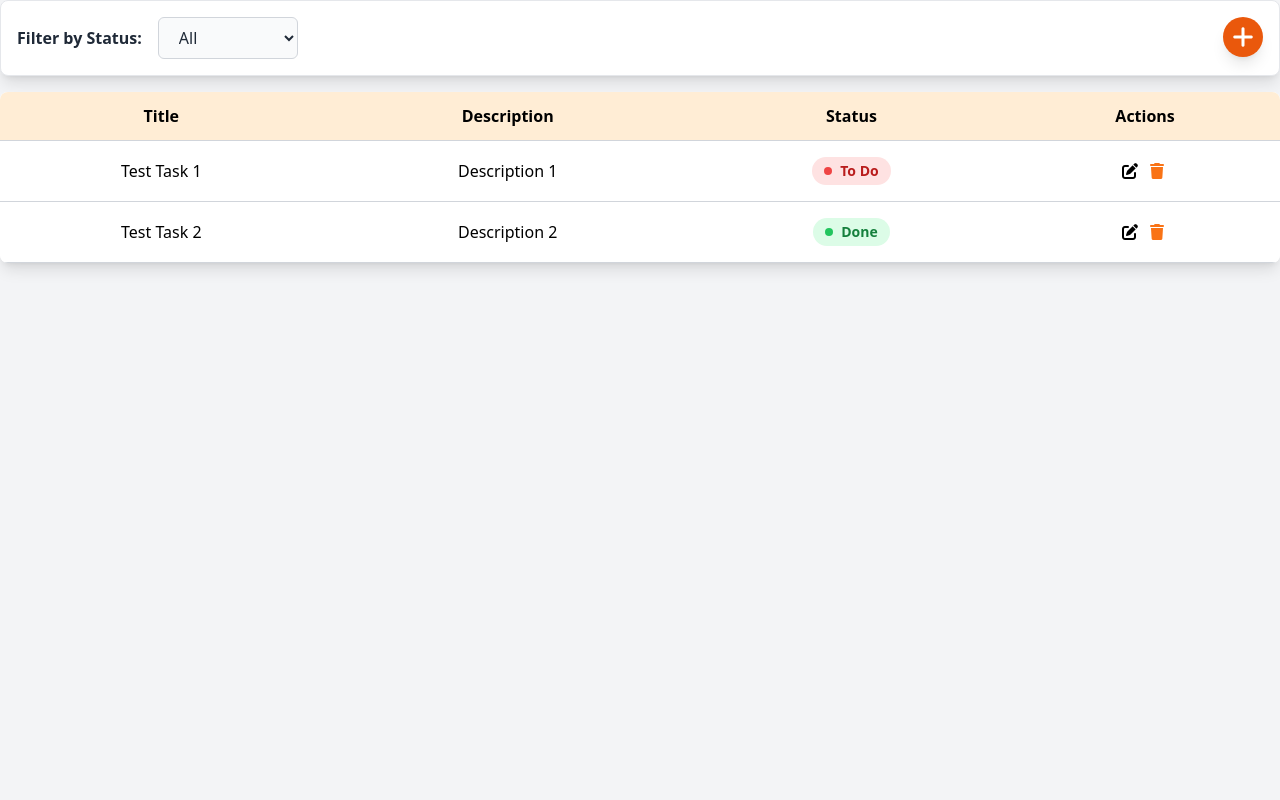
Table.vue › opens edit modal with correct task data
Click the button with class "fa-edit".
click(1132, 171)  # box [1122,163,1142,179]
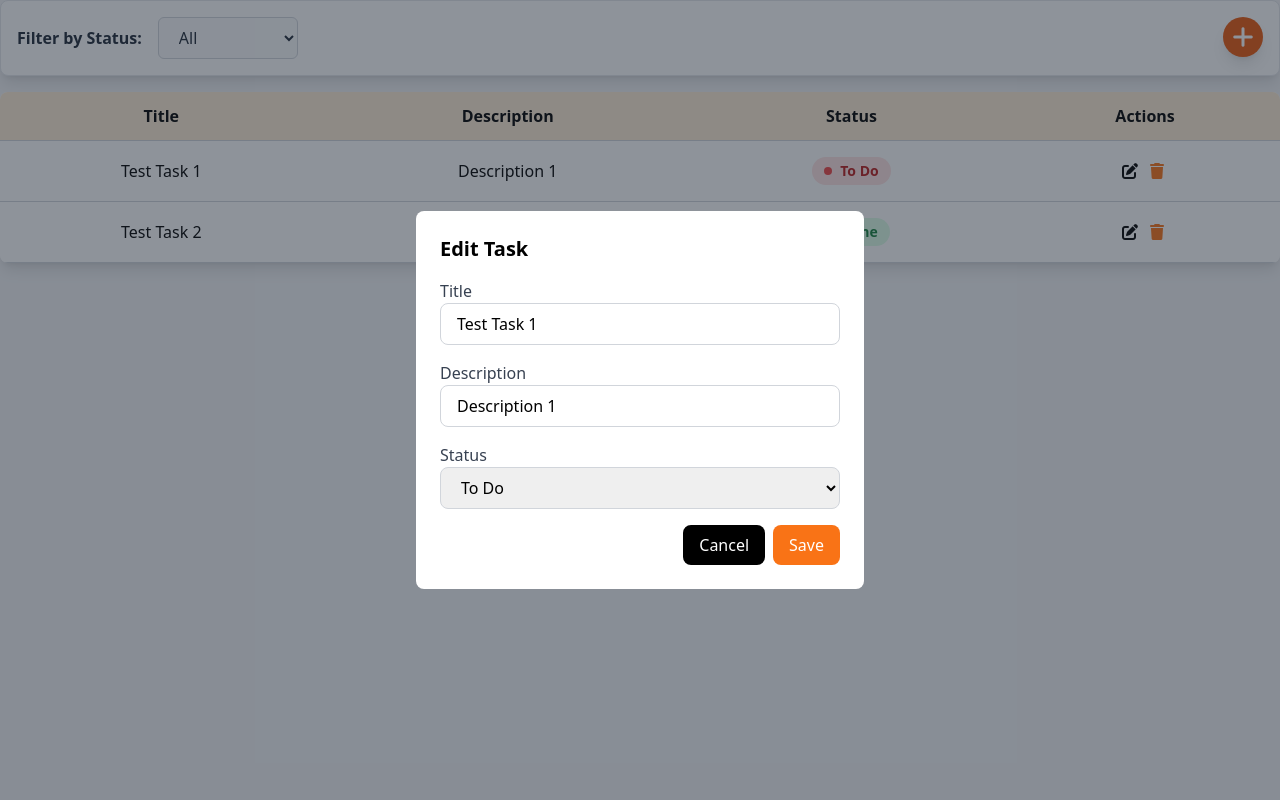
Expected: the cell "Test Task 1" is shown, [0,140,323,202]
Result: the element showing "Edit Task Title Description Status Cancel Save" is shown
